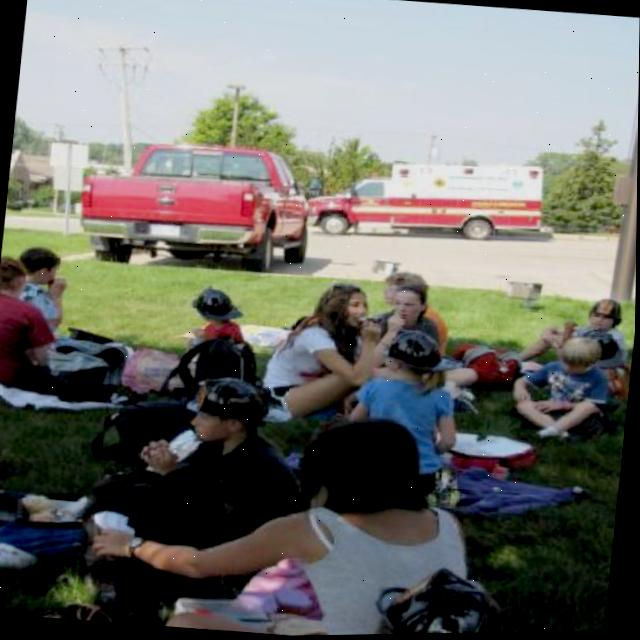emergency: (298, 136, 559, 274)
